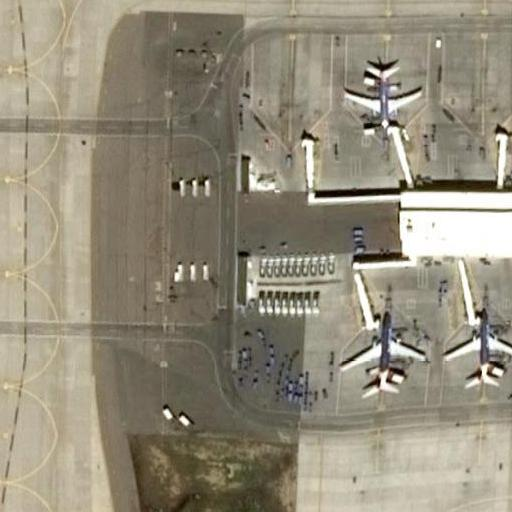Aircraft: (334, 312, 427, 397), (337, 57, 430, 136), (438, 302, 512, 393)
